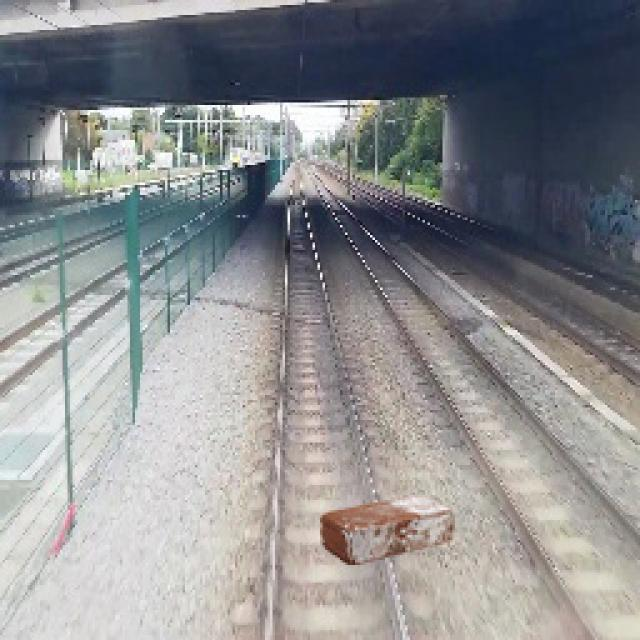danger: (318, 489, 457, 567)
rail: (232, 160, 430, 640)
